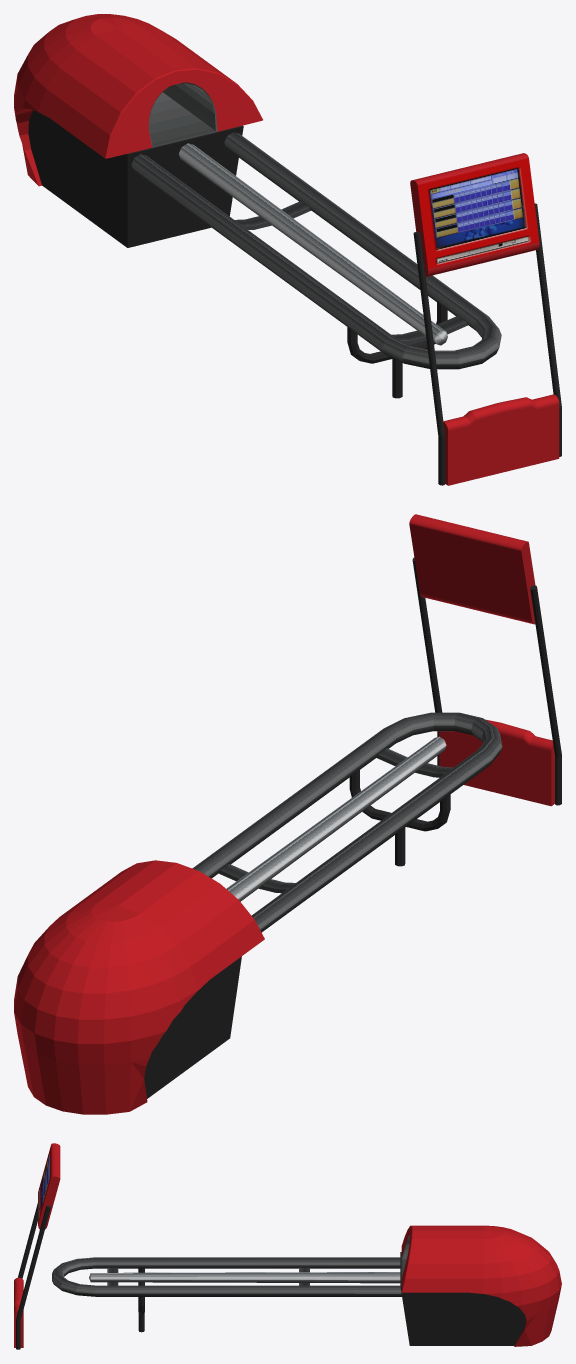
Rendered from P_BallReturn.fbx.
3 views of the same model, one above another, from view 1: azimuth 30°, elevation 25°; view 2: azimuth 150°, elevation 25°; view 3: azimuth 270°, elevation 25° (orthographic). The views are drawn at different scales.
Parts seen in each view (by area): view 1: Empty_Mesh; view 2: Empty_Mesh; view 3: Empty_Mesh.
Boxes of the visible parts, box(x1,y1,x2,y2) form: Empty_Mesh: box(14, 14, 561, 485); Empty_Mesh: box(14, 514, 561, 1114); Empty_Mesh: box(14, 1143, 561, 1349).
Bounding box in the file's own units: 0.8519 × 1.43 × 4.15.
